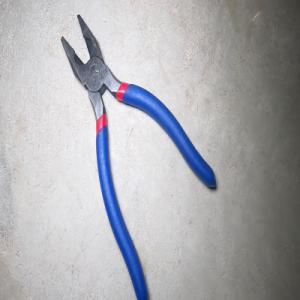Pliers: (60, 13, 216, 300)
